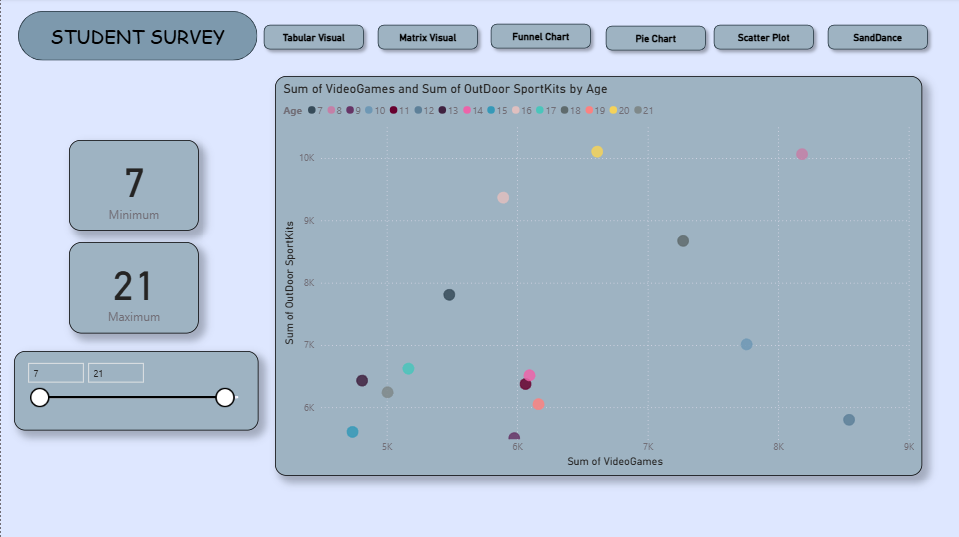

The page's visual inventory and layout, read from the dashboard file:
{"tool":"powerbi","page":{"name":"Scatter Plots","canvas":[1280,720],"ordinal":4},"visuals":[{"type":"scatterChart","fields":{"X":["Sum(Student Survey.VideoGames)"],"Y":["Sum(Student Survey.OutDoor SportKits)"],"Series":["Student Survey.Age"]},"box":[364.7,104.6,863,532.6],"z":0},{"type":"group","id":"g1","title":"Group 2","box":[341.3,24.8,902.9,52.3],"z":1000},{"type":"shape","box":[796.8,26.8,151.4,50.9],"z":1000,"group":"g2"},{"type":"slicer","fields":{"Values":["Student Survey.Age"]},"box":[17.9,470.7,326.2,106],"z":2000},{"type":"card","fields":{"Values":["Min(Student Survey.Age)"]},"box":[90.8,189.9,173.4,121.1],"z":3000},{"type":"card","fields":{"Values":["Max(Student Survey.Age)"]},"box":[90.8,324.8,173.4,122.5],"z":4000},{"type":"shape","box":[22,17.9,319.3,66.1],"z":5000},{"type":"shape","box":[341.3,26.2,151.4,50.9],"z":5000,"group":"g1"},{"type":"shape","box":[941.4,26.2,151.4,50.9],"z":6000,"group":"g1"},{"type":"shape","box":[1092.8,26.2,151.4,50.9],"z":7000,"group":"g1"},{"type":"shape","box":[492.7,26.2,151.4,50.9],"z":8000,"group":"g1"},{"type":"shape","box":[644.1,24.8,151.4,50.9],"z":9000,"group":"g1"},{"type":"group","id":"g2","title":"Group 1","box":[796.8,26.8,151.4,50.9],"z":10000,"group":"g1"}]}

Visuals, with their boxes in screenshot pixels (x1, y1, x2, y2), scaled from the page's 1280x720 canvas onto the 959x537 screenshot:
scatterChart - Sum(Student Survey.VideoGames) x Sum(Student Survey.OutDoor SportKits): (x1=273, y1=78, x2=920, y2=475)
"Group 2" group: (x1=256, y1=18, x2=932, y2=58)
shape: (x1=597, y1=20, x2=710, y2=58)
slicer - Student Survey.Age: (x1=13, y1=351, x2=258, y2=430)
card - Min(Student Survey.Age): (x1=68, y1=142, x2=198, y2=232)
card - Max(Student Survey.Age): (x1=68, y1=242, x2=198, y2=334)
shape: (x1=16, y1=13, x2=256, y2=63)
shape: (x1=256, y1=20, x2=369, y2=58)
shape: (x1=705, y1=20, x2=819, y2=58)
shape: (x1=819, y1=20, x2=932, y2=58)
shape: (x1=369, y1=20, x2=483, y2=58)
shape: (x1=483, y1=18, x2=596, y2=56)
"Group 1" group: (x1=597, y1=20, x2=710, y2=58)
